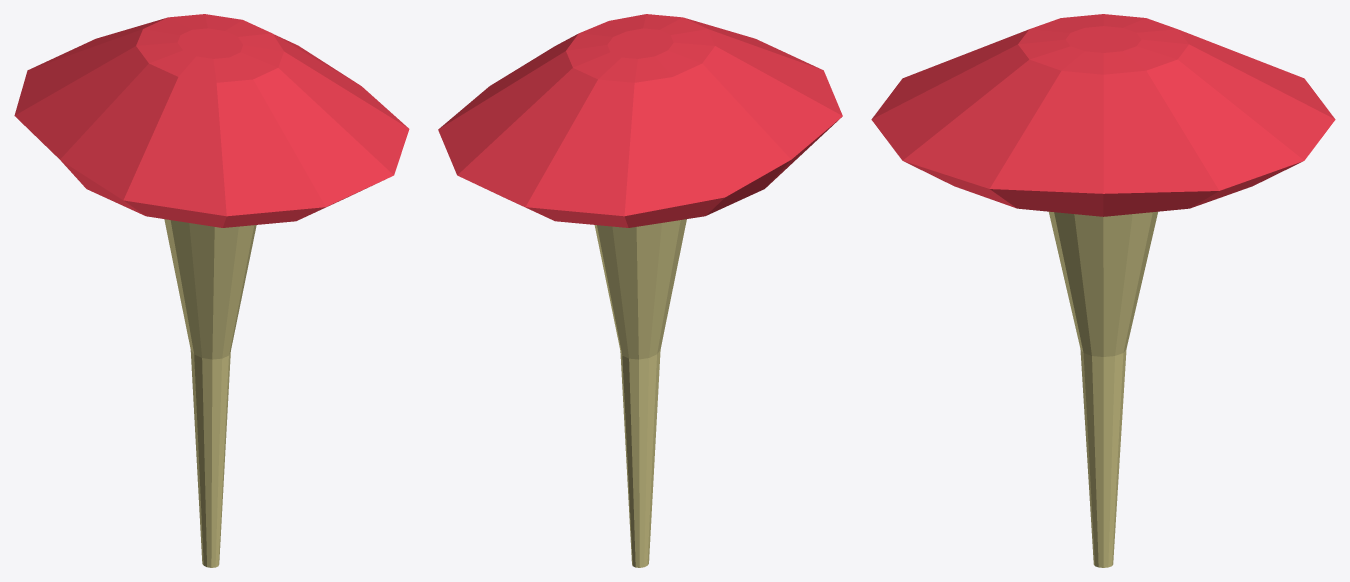
The model's file is _MUSHROM.fbx.
3 views of the same model, side by side, from view 1: azimuth 30°, elevation 25°; view 2: azimuth 150°, elevation 25°; view 3: azimuth 270°, elevation 25° (orthographic).
Visible parts, largest first — view 1: Cube.001; view 2: Cube.001; view 3: Cube.001.
Part boxes in pixels (bbox=[...]): Cube.001: bbox=[14, 14, 409, 567]; Cube.001: bbox=[438, 14, 842, 567]; Cube.001: bbox=[871, 14, 1335, 567].
Bounding box in the file's own units: 6.25 × 10.3 × 8.25.
